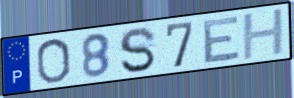7: (164, 20, 194, 69)
8: (80, 31, 111, 79)
E: (202, 14, 242, 65)
H: (241, 6, 287, 62)
O: (35, 36, 72, 85)
S: (117, 26, 158, 75)
